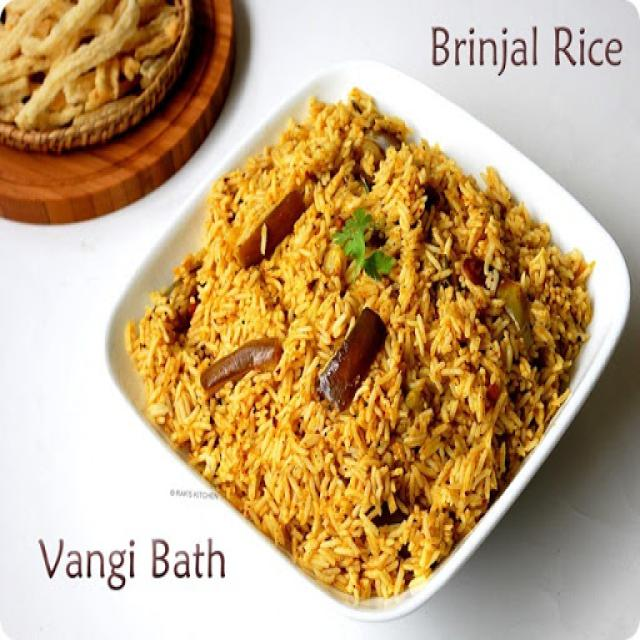vangi bath: (117, 84, 603, 621)
